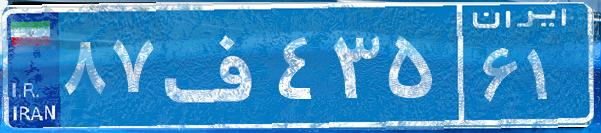1: (525, 38, 570, 115)
3: (330, 28, 385, 110)
4: (273, 28, 330, 110)
5: (385, 28, 445, 110)
6: (475, 38, 525, 113)
7: (110, 28, 158, 105)
8: (57, 26, 110, 107)
ف: (158, 15, 273, 115)
